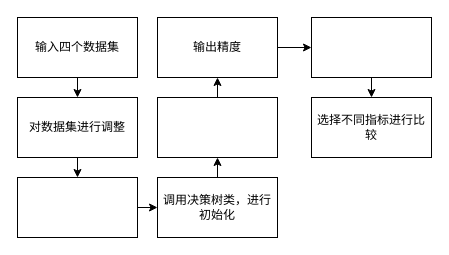
Image size: 449x255. Some labels were removed from this diagram. The centre of each missing label's shape, as x and y in pixels:
分割出训练集、测试集: the point at 77,207
打印图像: the point at 371,47
训练决策树: the point at 217,127
